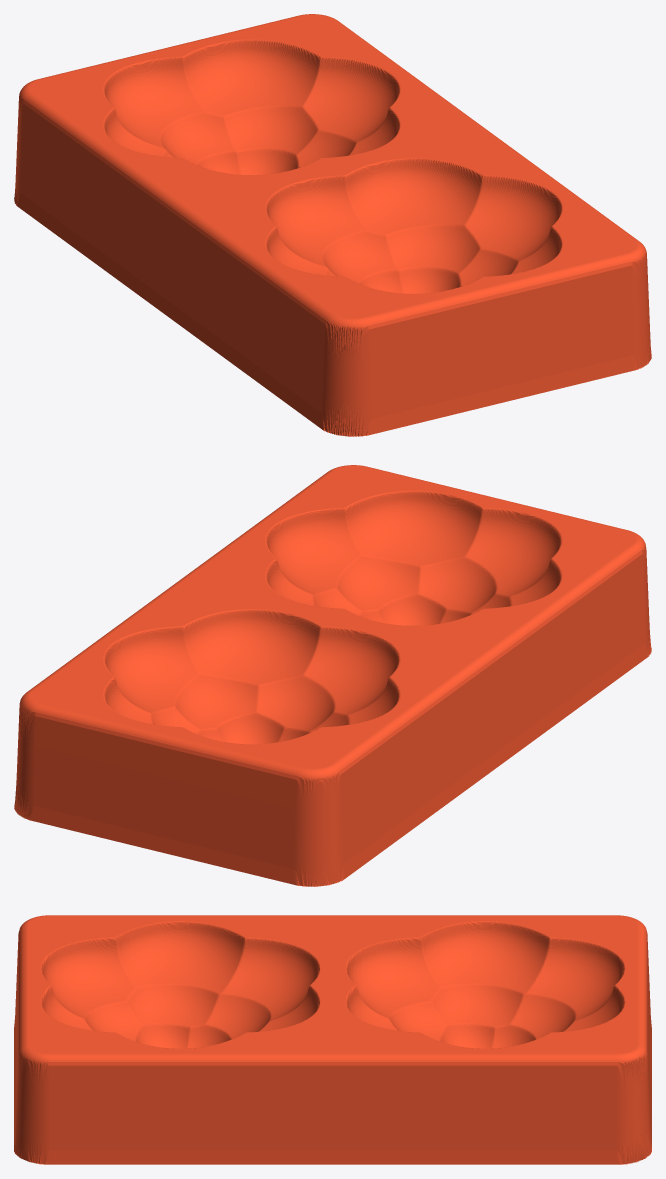
Rendered from mold.glb.
The picture shows the model from 3 angles, top to bottom: view 1: azimuth 30°, elevation 25°; view 2: azimuth 150°, elevation 25°; view 3: azimuth 270°, elevation 25°; orthographic projection. The views are drawn at different scales.
Visible parts, largest first — view 1: geometry_0; view 2: geometry_0; view 3: geometry_0.
Boxes of the visible parts, <box> form: geometry_0: <box>14,14,651,436</box>; geometry_0: <box>14,465,651,886</box>; geometry_0: <box>14,915,651,1164</box>.
Bounding box in the file's own units: 0.0905 × 0.0296 × 0.1632.
